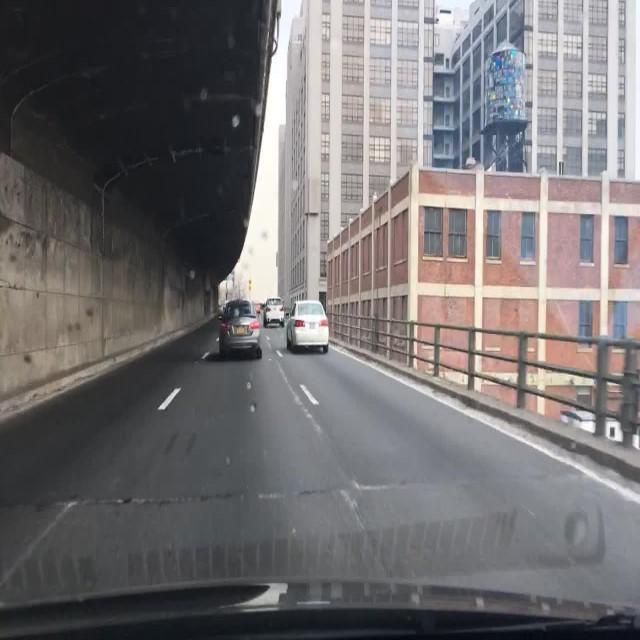normal: (210, 266, 337, 364)
